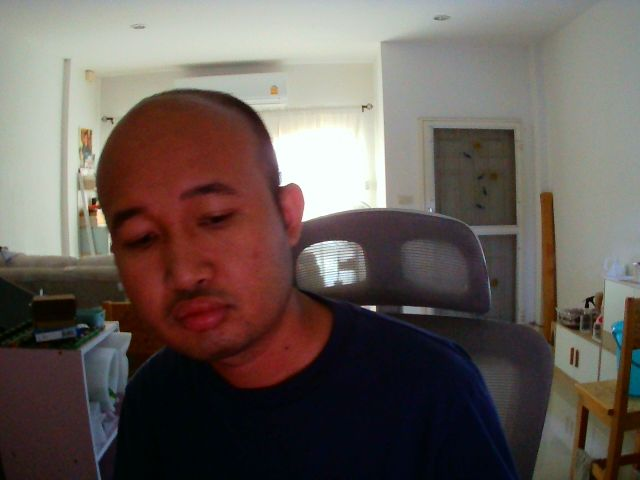face: (94, 87, 308, 361)
